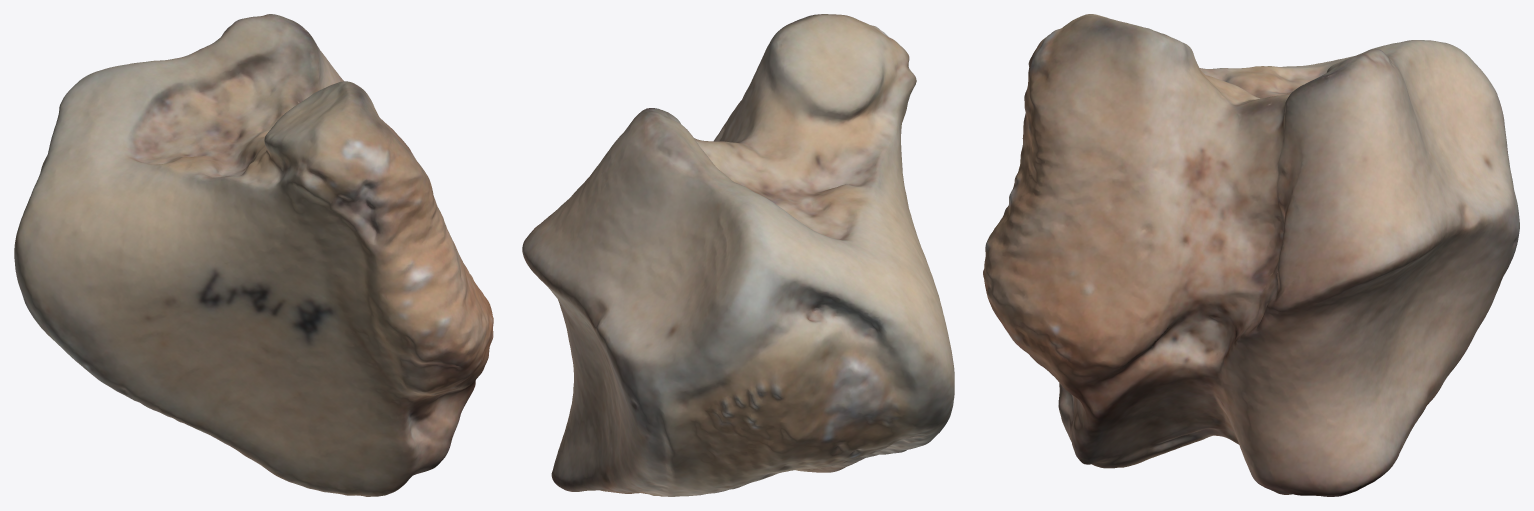
The picture shows the model from 3 angles, left to right: view 1: azimuth 30°, elevation 25°; view 2: azimuth 150°, elevation 25°; view 3: azimuth 270°, elevation 25°; orthographic projection. The views are drawn at different scales.
Parts seen in each view (by area): view 1: Node; view 2: Node; view 3: Node.
Boxes of the visible parts, <box> form: Node: <box>14,14,493,496</box>; Node: <box>522,14,954,496</box>; Node: <box>983,14,1519,496</box>.
Bounding box in the file's own units: 31.49 × 31.83 × 35.51.
1 material, 1 textured.
